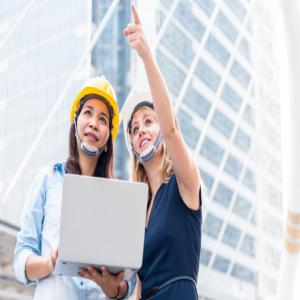white: (123, 89, 169, 171)
yellow: (72, 77, 120, 160)
